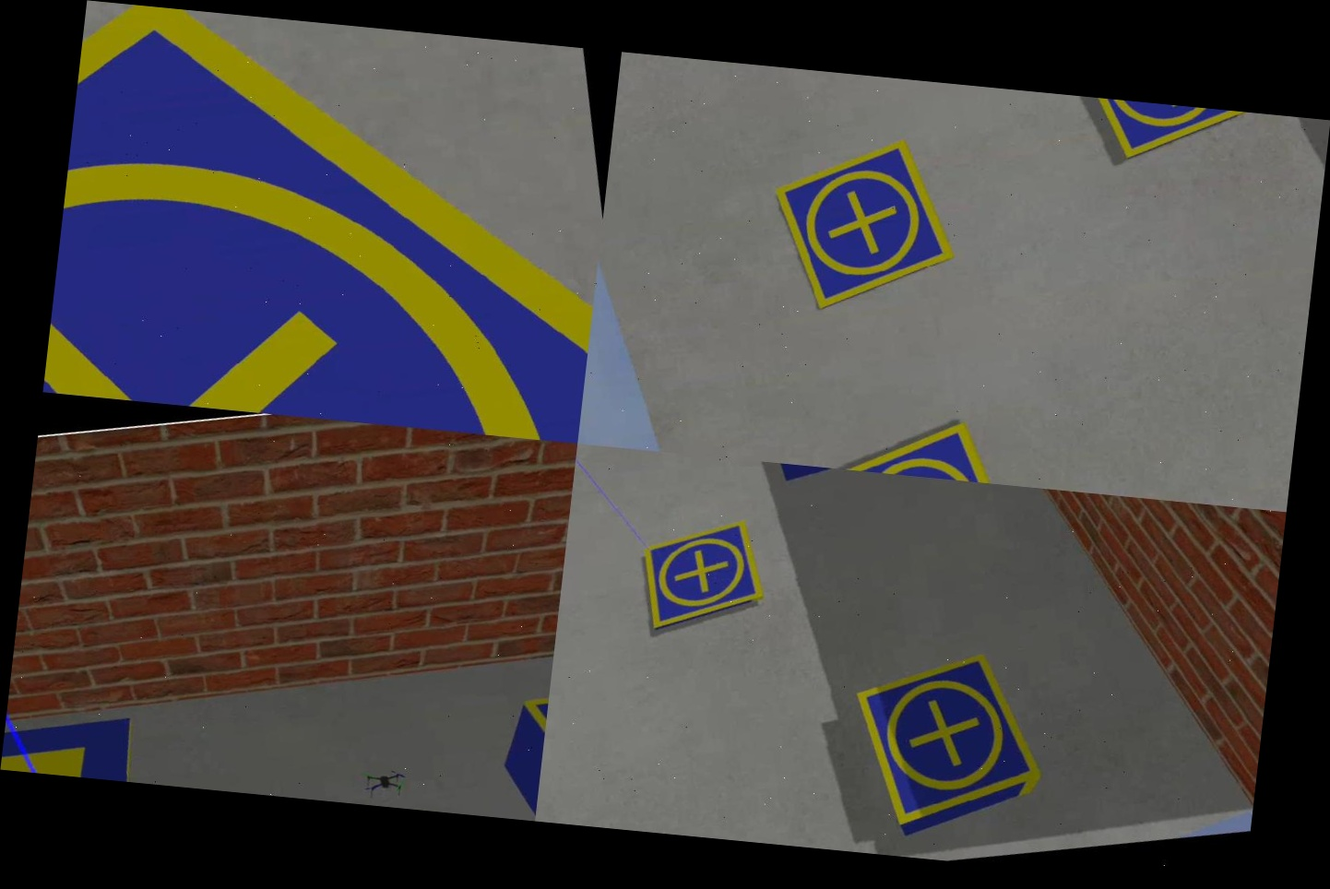small_base: (42, 0, 622, 444), (837, 634, 1065, 846), (750, 119, 980, 329), (625, 507, 777, 644), (819, 401, 1042, 488), (1054, 94, 1261, 180)
